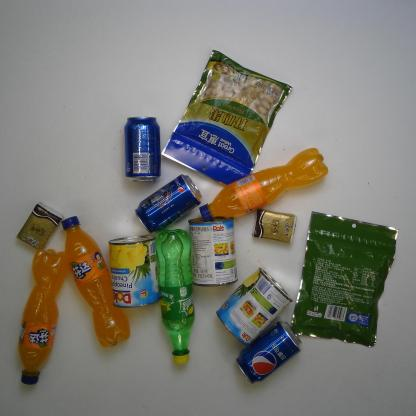Canned Food: (216, 267, 295, 349), (106, 231, 163, 310), (186, 214, 238, 288)
Dried Fruit: (161, 46, 297, 195), (286, 210, 398, 350)
Drink: (197, 146, 330, 226), (57, 212, 133, 350), (13, 247, 73, 387), (153, 226, 197, 368), (234, 320, 304, 387), (133, 174, 204, 236), (120, 114, 163, 186)
Tissue: (13, 198, 64, 254), (250, 206, 300, 244)
